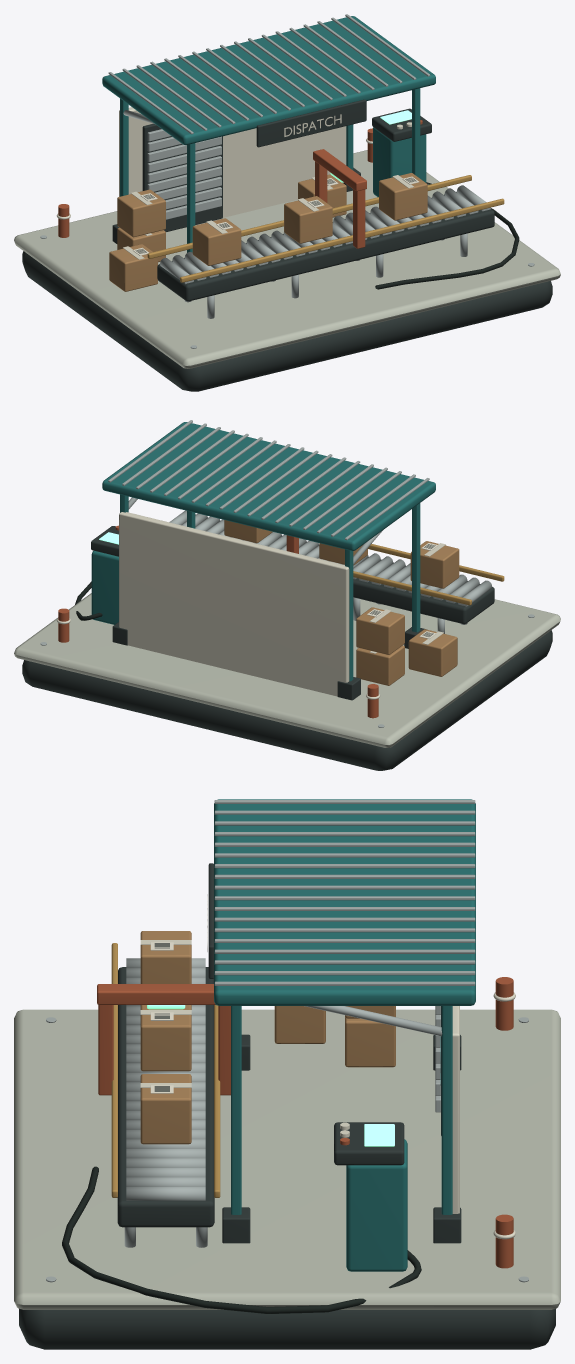
Rendered from payments-v2.glb.
3 renders of one model, top to bottom at view 1: azimuth 30°, elevation 25°; view 2: azimuth 150°, elevation 25°; view 3: azimuth 270°, elevation 25°, orthographic. The views are drawn at different scales.
Parts seen in each view (by area): view 1: payments_Cut limestone, payments_Graphite enamel, payments_Petrol enamel, payments_Brushed aluminum, payments_Warm chalk, payments_Timber end grain, payments_Warm brass, payments_Oxide paint, parcel_0_Timber end grain, parcel_1_Timber end grain, parcel_2_Timber end grain, payments_Rubber and cables; view 2: payments_Warm chalk, payments_Cut limestone, payments_Petrol enamel, payments_Graphite enamel, payments_Brushed aluminum, payments_Timber end grain, parcel_0_Timber end grain, payments_Warm brass, payments_Oxide paint, parcel_2_Timber end grain, parcel_1_Timber end grain; view 3: payments_Cut limestone, payments_Petrol enamel, payments_Brushed aluminum, payments_Graphite enamel, payments_Oxide paint, payments_Timber end grain, payments_Rubber and cables, parcel_2_Timber end grain, parcel_1_Timber end grain, payments_Warm brass, parcel_0_Timber end grain, payments_Warm chalk (+1 smaller).
Boxes of the visible parts, x1=… form: payments_Cut limestone: x1=14, y1=150, x2=560, y2=368; payments_Graphite enamel: x1=22, y1=99, x2=552, y2=391; payments_Petrol enamel: x1=102, y1=16, x2=435, y2=252; payments_Brushed aluminum: x1=40, y1=14, x2=534, y2=348; payments_Warm chalk: x1=56, y1=107, x2=411, y2=259; payments_Timber end grain: x1=109, y1=174, x2=346, y2=291; payments_Warm brass: x1=147, y1=175, x2=504, y2=282; payments_Oxide paint: x1=58, y1=120, x2=422, y2=248; parcel_0_Timber end grain: x1=192, y1=218, x2=241, y2=265; parcel_1_Timber end grain: x1=284, y1=196, x2=332, y2=243; parcel_2_Timber end grain: x1=379, y1=173, x2=427, y2=220; payments_Rubber and cables: x1=375, y1=182, x2=519, y2=289; payments_Warm chalk: x1=56, y1=512, x2=443, y2=699; payments_Cut limestone: x1=14, y1=593, x2=560, y2=747; payments_Petrol enamel: x1=91, y1=422, x2=435, y2=681; payments_Graphite enamel: x1=22, y1=514, x2=552, y2=770; payments_Brushed aluminum: x1=40, y1=420, x2=534, y2=727; payments_Timber end grain: x1=356, y1=607, x2=457, y2=685; parcel_0_Timber end grain: x1=410, y1=541, x2=459, y2=588; payments_Warm brass: x1=353, y1=544, x2=504, y2=605; payments_Oxide paint: x1=58, y1=525, x2=378, y2=718; parcel_2_Timber end grain: x1=224, y1=520, x2=272, y2=543; parcel_1_Timber end grain: x1=319, y1=543, x2=367, y2=565; payments_Cut limestone: x1=14, y1=1009, x2=560, y2=1309; payments_Petrol enamel: x1=214, y1=799, x2=475, y2=1271; payments_Brushed aluminum: x1=46, y1=800, x2=528, y2=1282; payments_Graphite enamel: x1=19, y1=863, x2=555, y2=1349; payments_Oxide paint: x1=97, y1=977, x2=513, y2=1268; payments_Timber end grain: x1=274, y1=1006, x2=395, y2=1067; payments_Rubber and cables: x1=62, y1=1166, x2=421, y2=1313; parcel_2_Timber end grain: x1=140, y1=1074, x2=191, y2=1144; parcel_1_Timber end grain: x1=140, y1=1005, x2=191, y2=1071; payments_Warm brass: x1=111, y1=943, x2=220, y2=1197; parcel_0_Timber end grain: x1=140, y1=931, x2=191, y2=983; payments_Warm chalk: x1=207, y1=894, x2=515, y2=1239.
Size of the model in its own units: 5.55 by 2.81 by 4.28.
